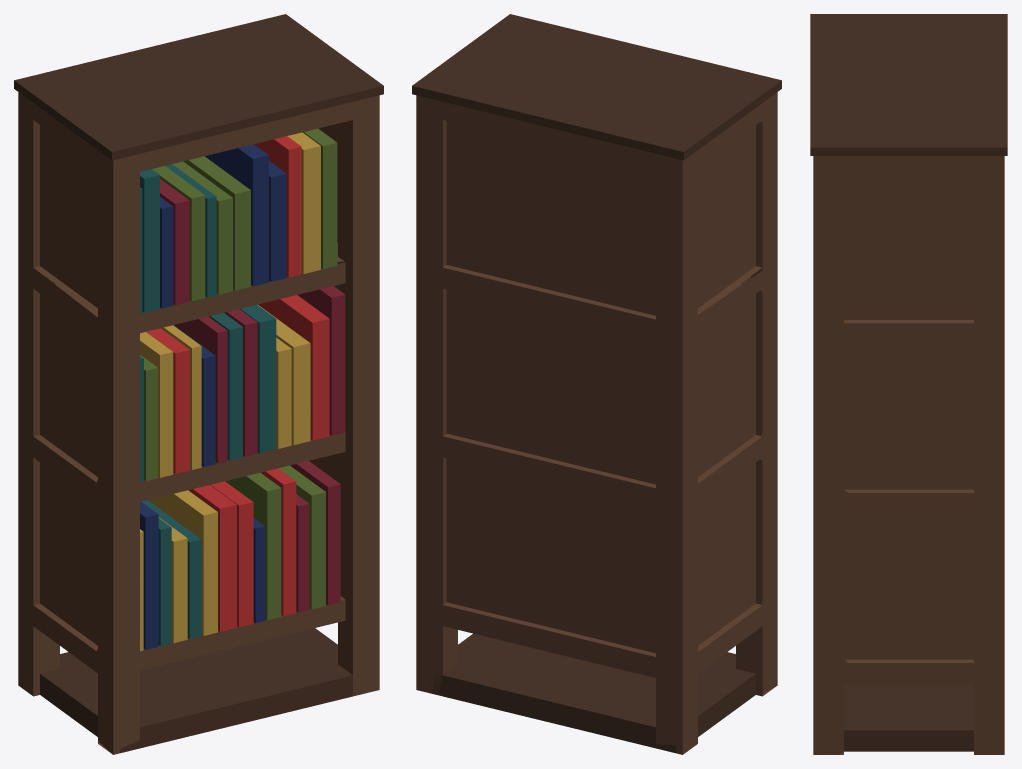
Rendered from bookcaseClosed.glb.
3 views of the same model, side by side, from view 1: azimuth 30°, elevation 25°; view 2: azimuth 150°, elevation 25°; view 3: azimuth 270°, elevation 25° (orthographic).
Visible parts, largest first — view 1: bookcaseClosed(Clone); view 2: bookcaseClosed(Clone); view 3: bookcaseClosed(Clone).
Part boxes in pixels (x1,y1,x2,y2): bookcaseClosed(Clone): [14, 14, 383, 754]; bookcaseClosed(Clone): [412, 14, 781, 754]; bookcaseClosed(Clone): [810, 14, 1007, 754].
Size of the model in its own units: 0.4 by 0.85 by 0.25.
